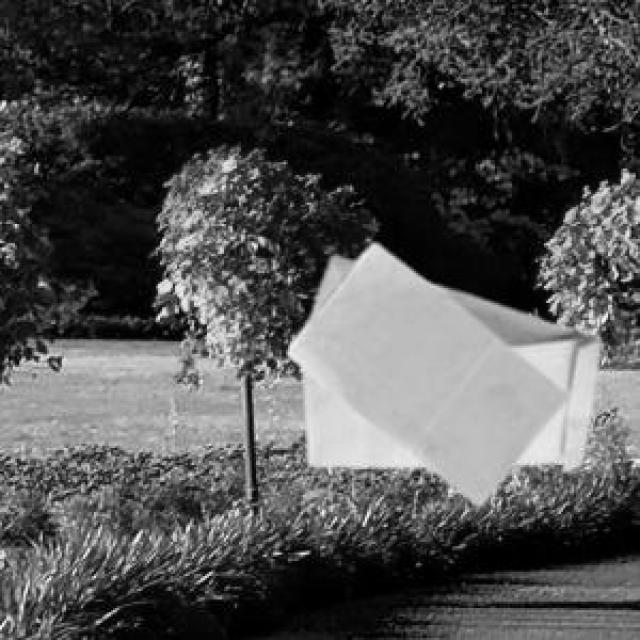paper: (284, 241, 563, 501), (299, 252, 595, 465)
